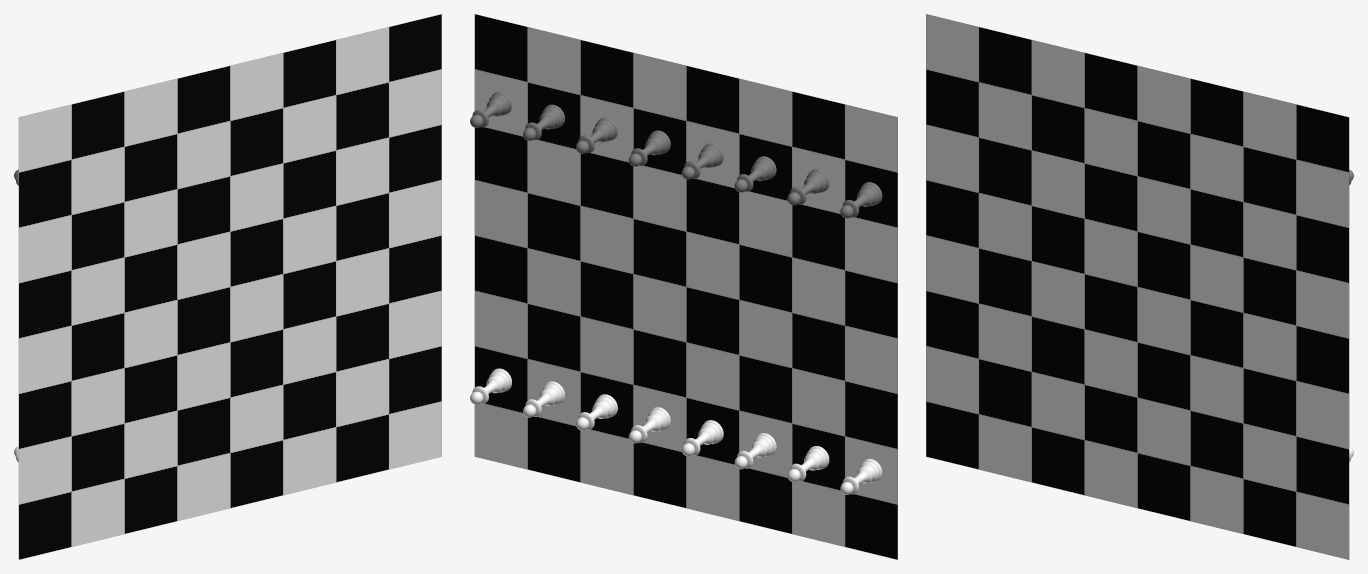
File: chessboard.dae
3 views of the same model, side by side, from view 1: azimuth 30°, elevation 25°; view 2: azimuth 150°, elevation 25°; view 3: azimuth 330°, elevation 25° (orthographic).
Visible parts, largest first — view 1: chessboard; view 2: chessboard, Cone.015, Cone.013, Cone.011, Cone.007, Cone.009, Cone.014, Cone.012, Cone.006, Cone.003, Cone.001, Cone.008 (+5 smaller); view 3: chessboard.
Boxes of the visible parts, x1,y1,x2,y2 form: chessboard: [18, 14, 441, 559]; chessboard: [474, 14, 897, 559]; Cone.015: [789, 169, 829, 204]; Cone.013: [684, 143, 723, 178]; Cone.011: [578, 117, 617, 152]; Cone.007: [525, 381, 564, 416]; Cone.009: [525, 104, 564, 140]; Cone.014: [737, 156, 776, 191]; Cone.012: [631, 130, 670, 165]; Cone.006: [789, 446, 829, 481]; Cone.003: [631, 407, 670, 442]; Cone.001: [472, 368, 511, 403]; Cone.008: [842, 458, 882, 494]; chessboard: [926, 14, 1349, 559].
Size of the model in its own units: 16 by 1.83 by 16.
4 materials, 1 textured.
